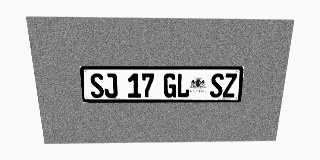1: (127, 73, 141, 98)
7: (141, 73, 154, 98)
G: (163, 73, 177, 98)
J: (103, 73, 118, 98)
L: (176, 73, 190, 98)
S: (89, 73, 104, 98), (210, 73, 224, 97)
Z: (223, 73, 237, 97)
